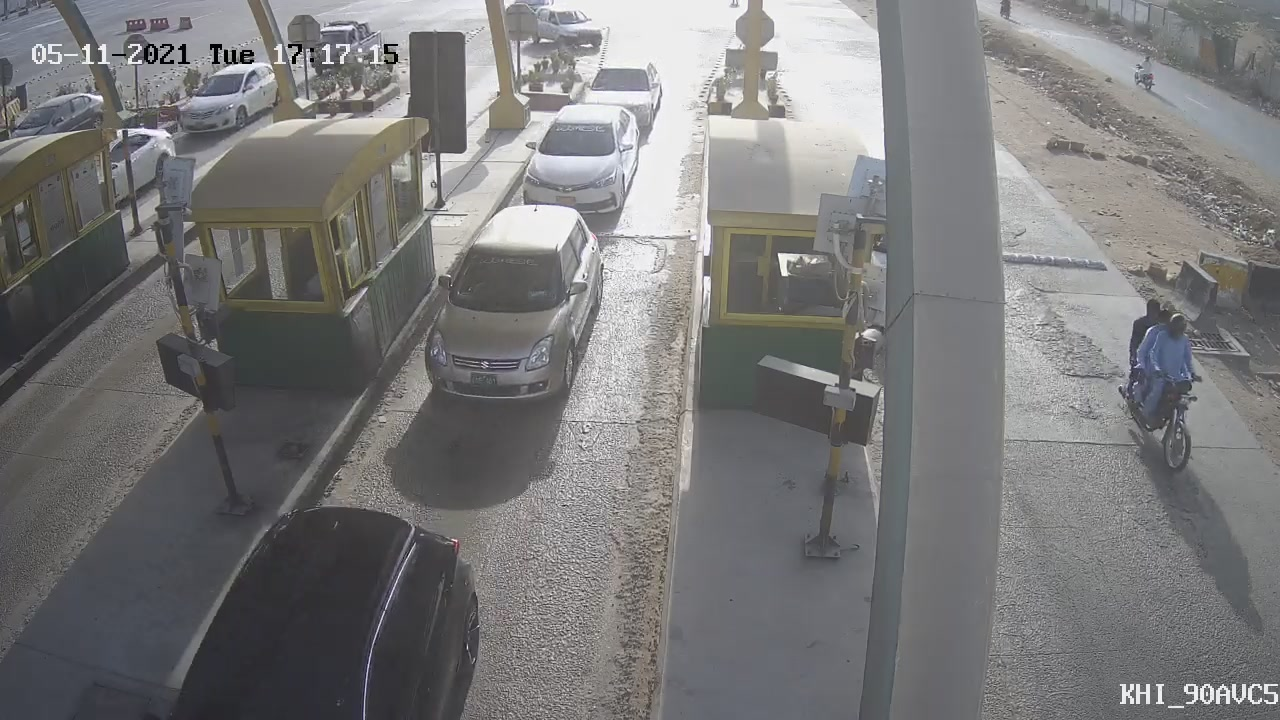F1: (405, 198, 622, 421), (503, 92, 657, 230)
